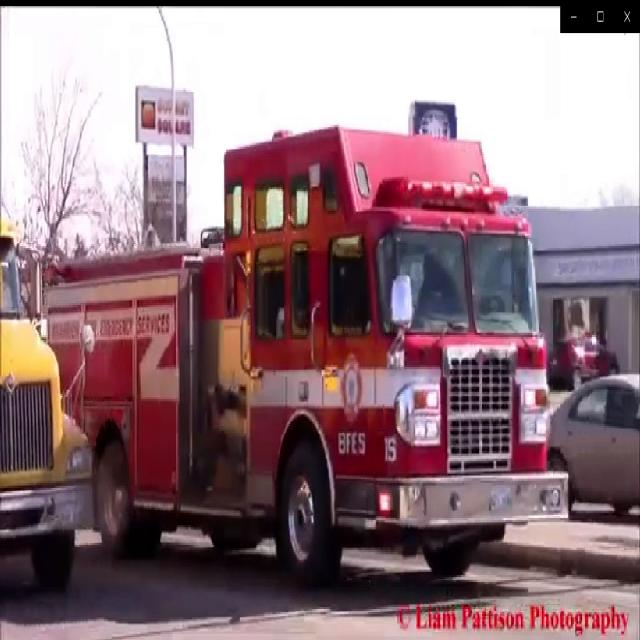emergency: (26, 116, 572, 592)
